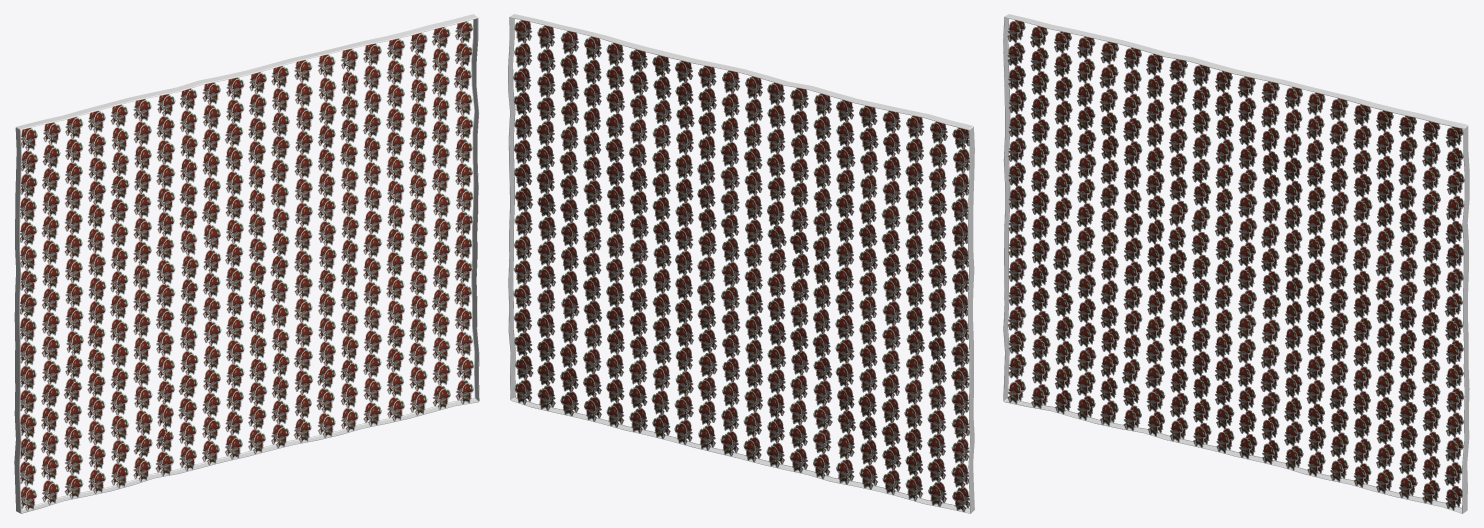
The model's file is SM_Tile_Floor5x4.fbx.
The picture shows the model from 3 angles, left to right: view 1: azimuth 30°, elevation 25°; view 2: azimuth 150°, elevation 25°; view 3: azimuth 330°, elevation 25°; orthographic projection.
Visible parts, largest first — view 1: SM_Tile_Floor5x4; view 2: SM_Tile_Floor5x4; view 3: SM_Tile_Floor5x4.
Part boxes in pixels (x1,y1,x2,y2): SM_Tile_Floor5x4: (14, 14, 479, 513); SM_Tile_Floor5x4: (508, 14, 974, 513); SM_Tile_Floor5x4: (1003, 14, 1469, 513).
Bounding box in the file's own units: 1002 × 802 × 31.09.
